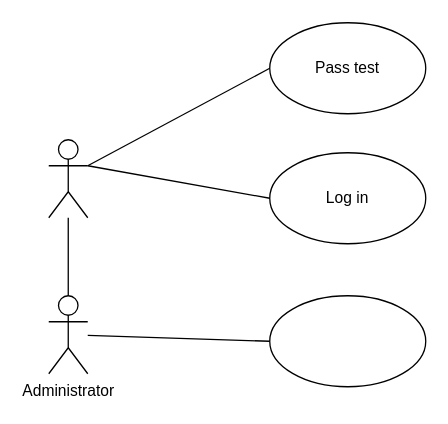
Some shapes in this 448 by 424 pixel diagram are drawn without their labels. The centre of each missing label's shape, as x and y in pixels:
Add test: [347,340]
User: [67,178]
